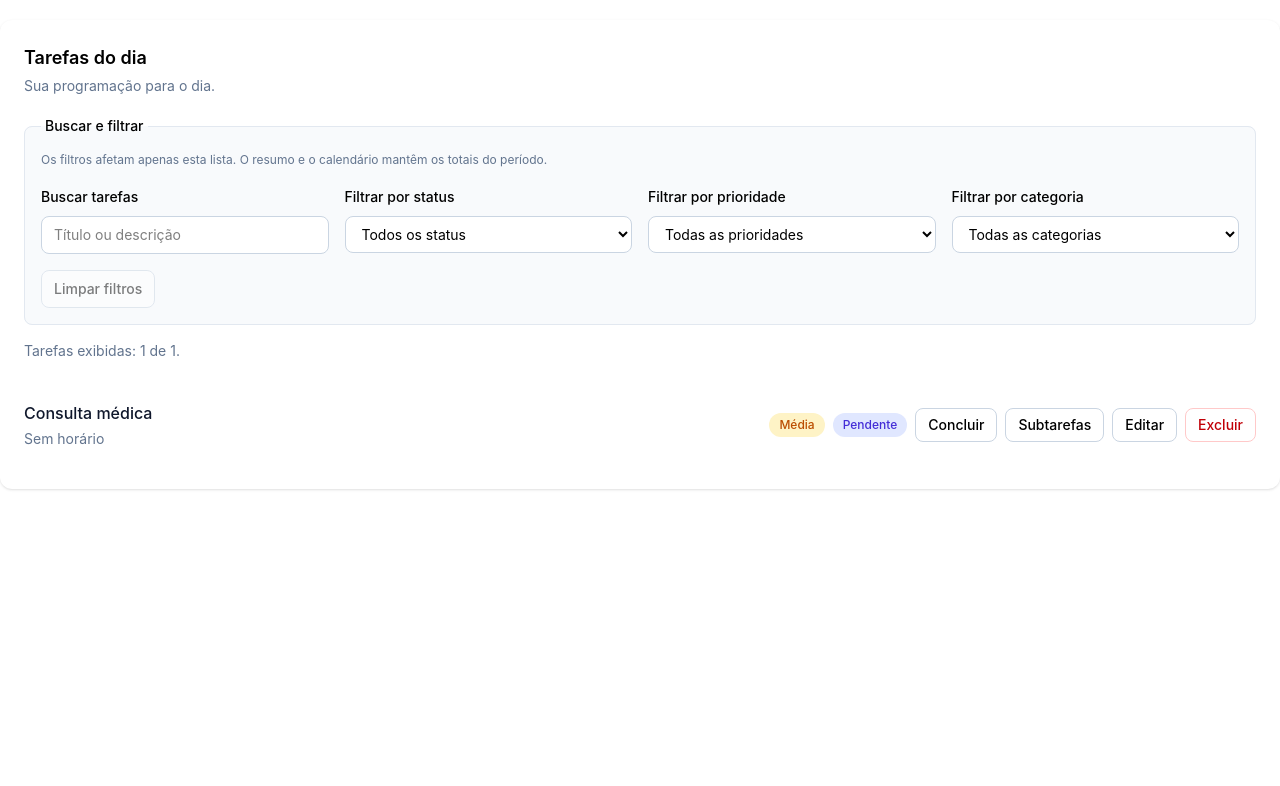
Test: TasksList filters › explica que a tarefa remarcada saiu da lista do dia
The image size is (1280, 786).
Expected: the text "Consulta médica" is shown, x1=24 y1=401 x2=152 y2=425
Click the button "Editar" at (1145, 425), box x1=1112 y1=408 x2=1177 y2=442
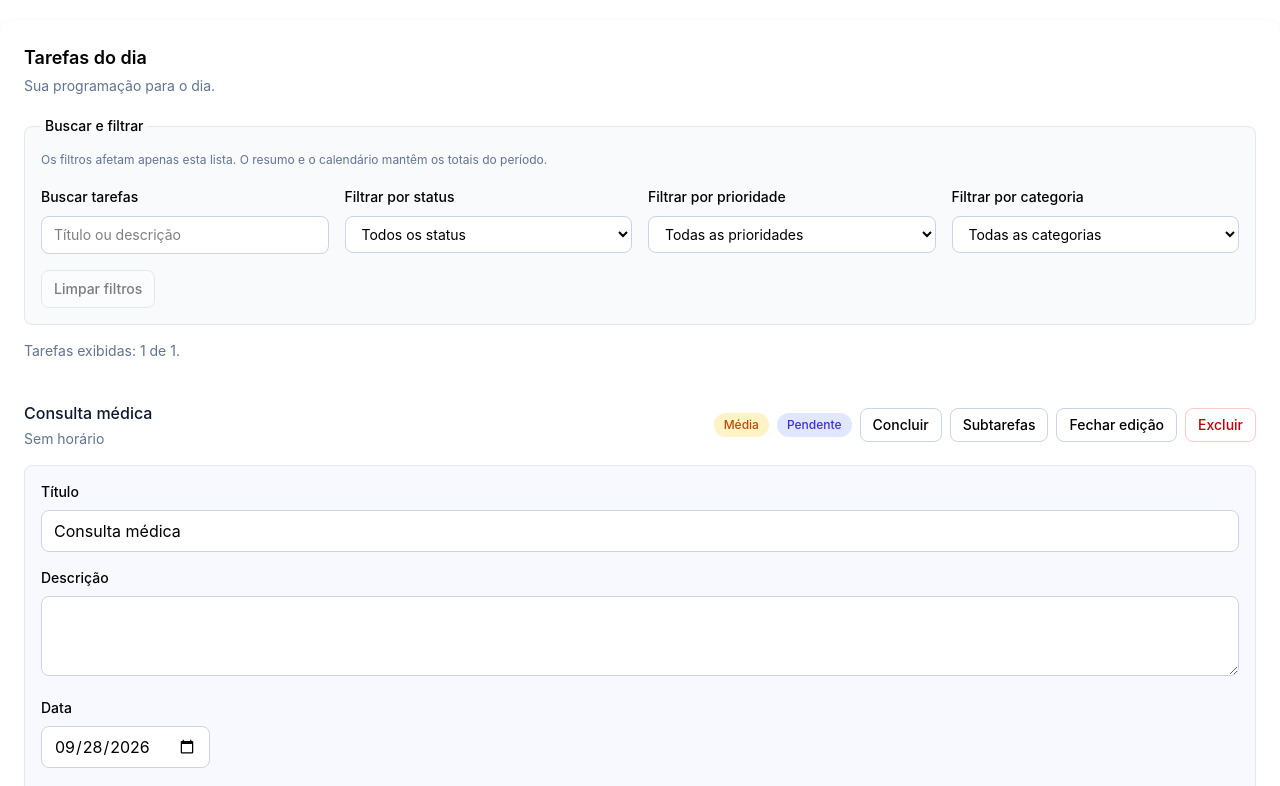
Type "2026-10-04" into the date field labelled "Data" at (126, 747), box x1=41 y1=726 x2=210 y2=768
(page scrolled)
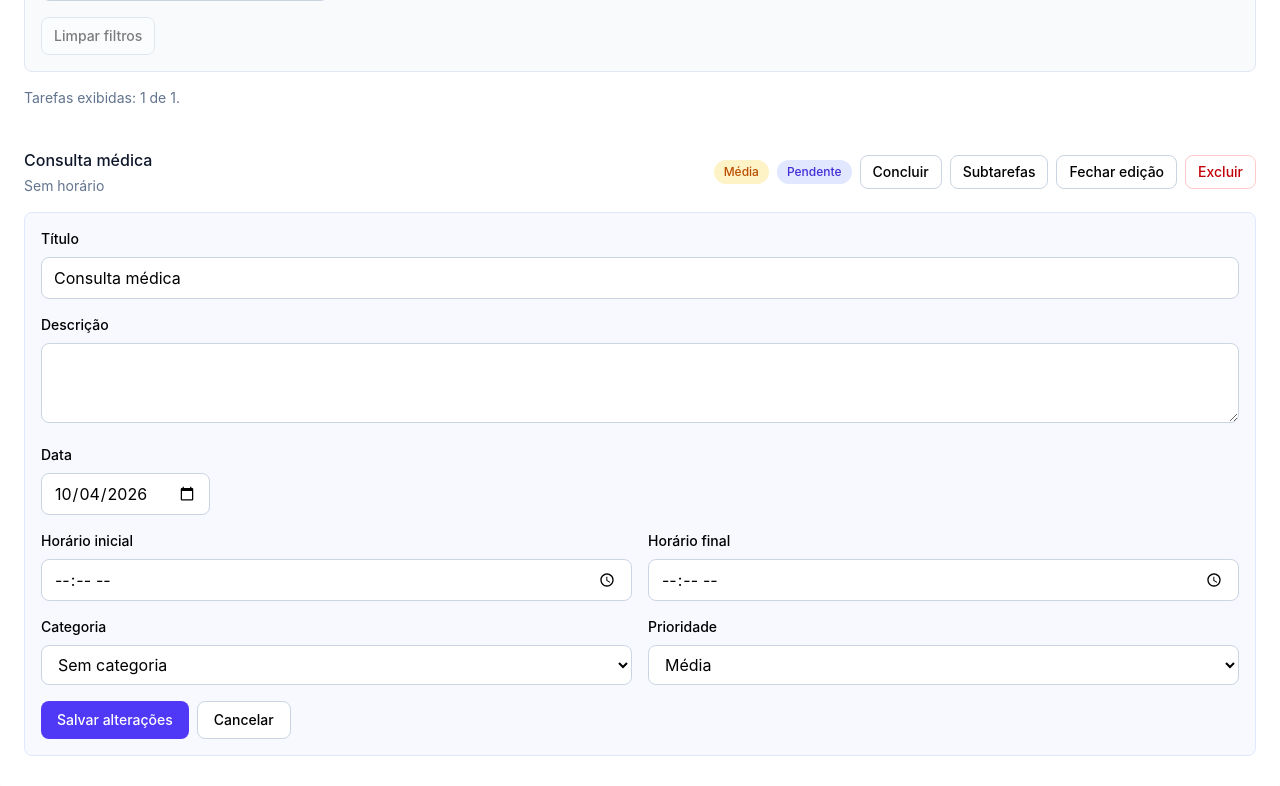
Click the button "Salvar alterações" at (115, 720), box x1=41 y1=701 x2=189 y2=739
(page scrolled)
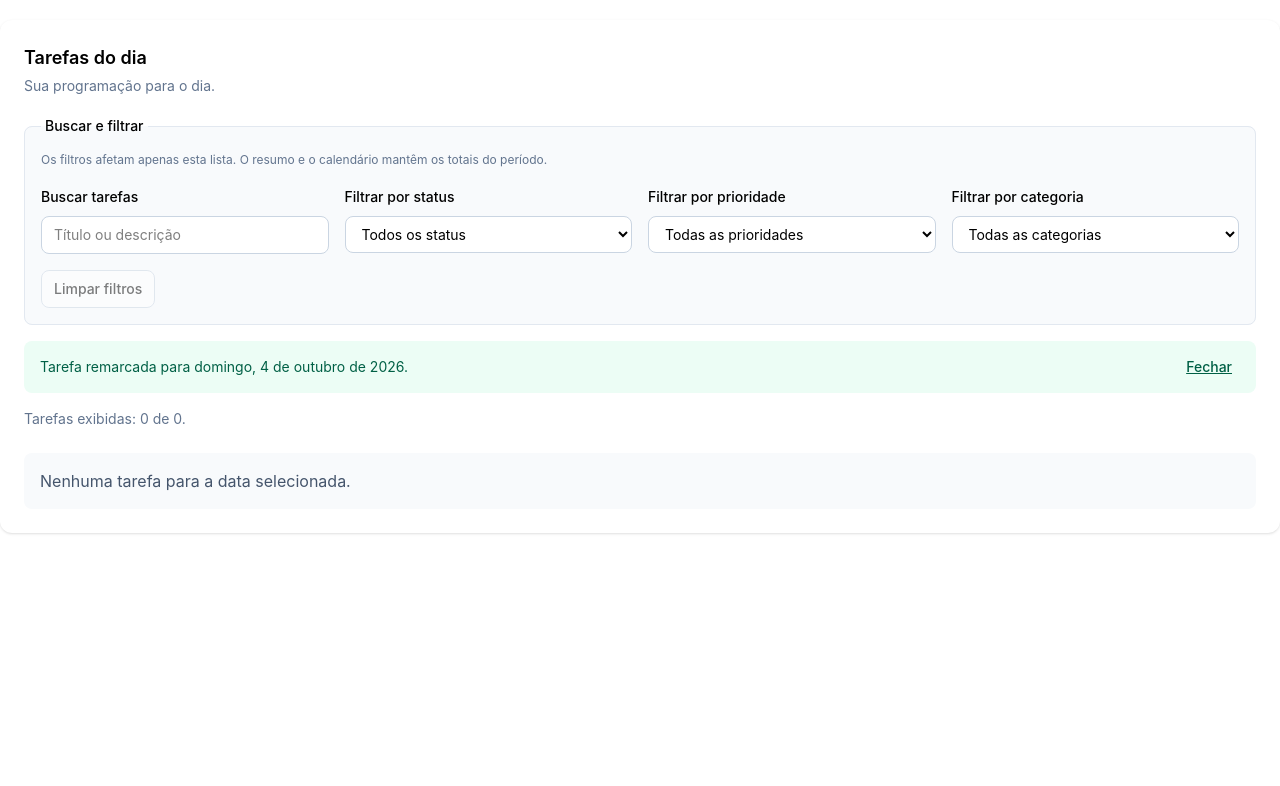
Expected: the text "Tarefa remarcada para domingo, 4 de outubro de 2026." is shown, x1=40 y1=357 x2=408 y2=377
Expected: the text "Nenhuma tarefa para a data selecionada." is shown, x1=24 y1=453 x2=1256 y2=509
